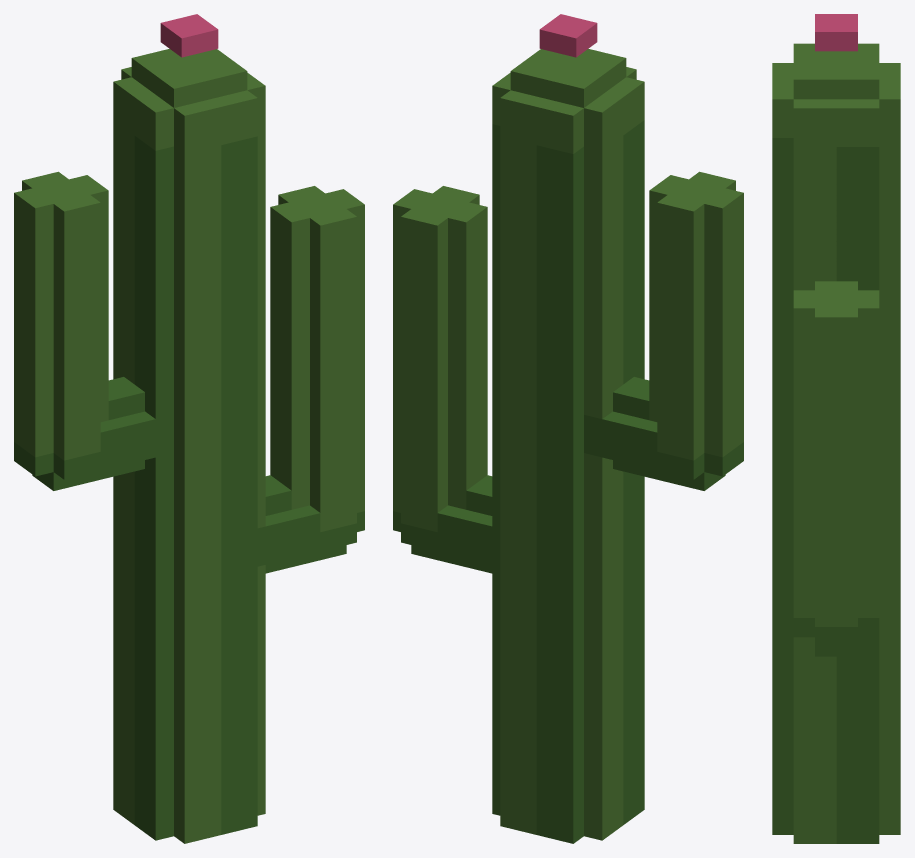
File: prop_cactus.glb
3 renders of one model, left to right at view 1: azimuth 30°, elevation 25°; view 2: azimuth 150°, elevation 25°; view 3: azimuth 270°, elevation 25°, orthographic.
Visible parts, largest first — view 1: prop_cactus; view 2: prop_cactus; view 3: prop_cactus.
Boxes of the visible parts, <box> form: prop_cactus: <box>14,14,364,843</box>; prop_cactus: <box>393,14,743,843</box>; prop_cactus: <box>772,14,900,843</box>.
Bounding box in the file's own units: 0.9 × 2.05 × 0.3001.
